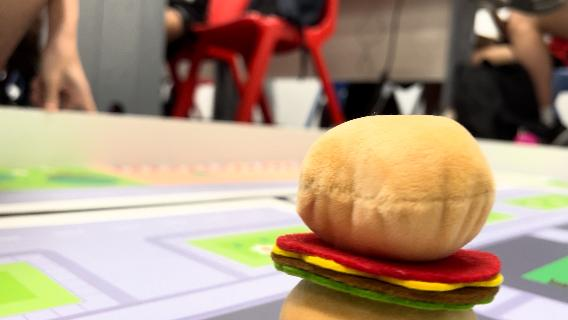burger: (269, 108, 503, 320)
